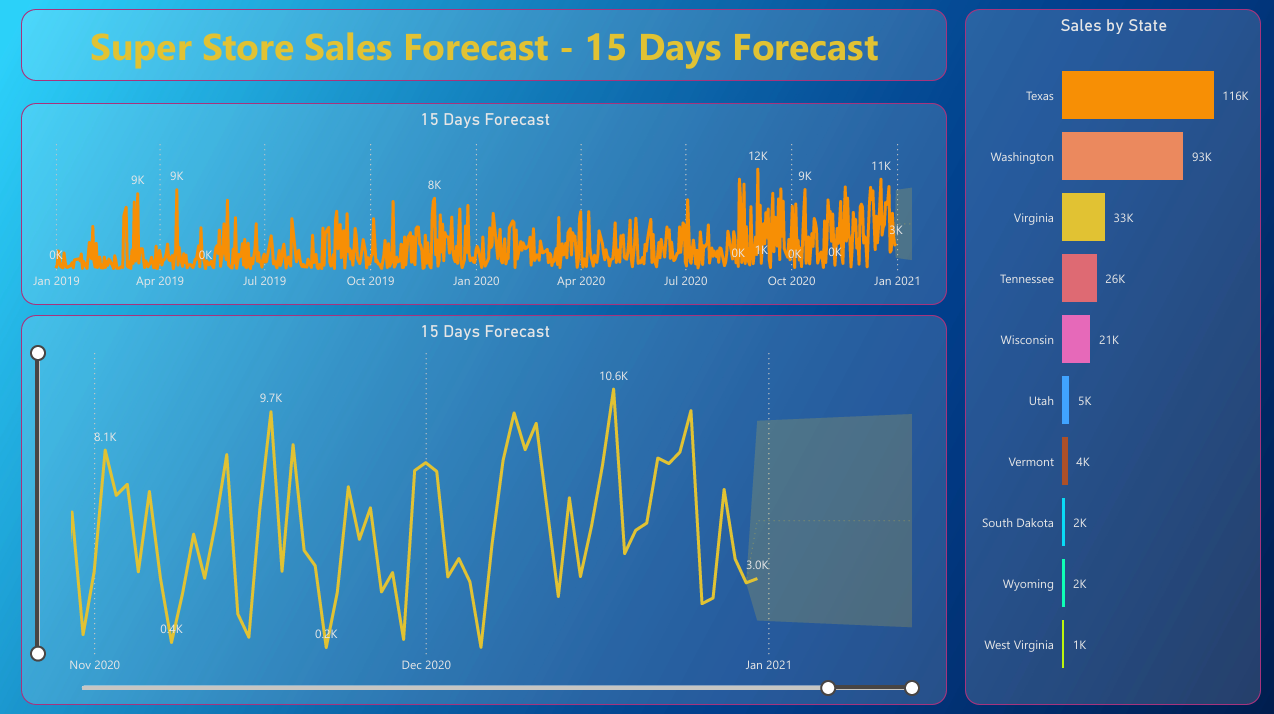

Layout of this report page (visuals, bound fields, positions):
{"tool":"powerbi","page":{"name":"Page 2","canvas":[1280,720],"ordinal":1},"visuals":[{"type":"lineChart","title":"15 Days Forecast","fields":{"Y":["Sum(SuperStore_Sales_Dataset.Sales)"],"Category":["SuperStore_Sales_Dataset.Order Date"]},"box":[22,316,926,390],"z":0},{"type":"lineChart","title":"15 Days Forecast","fields":{"Y":["Sum(SuperStore_Sales_Dataset.Sales)"],"Category":["SuperStore_Sales_Dataset.Order Date"]},"box":[22,104,926,202],"z":1000},{"type":"clusteredBarChart","title":"Sales by State","fields":{"Category":["SuperStore_Sales_Dataset.State"],"Y":["Sum(SuperStore_Sales_Dataset.Sales)"]},"box":[966,10,296,696],"z":2000},{"type":"textbox","box":[22,10,926,72],"z":3000}]}

Visuals, with their boxes in screenshot pixels (x1, y1, x2, y2), scaled from the page's 1280x720 canvas onto the 1274x714 screenshot:
"15 Days Forecast" lineChart: 22/313/944/700
"15 Days Forecast" lineChart: 22/103/944/303
"Sales by State" clusteredBarChart: 961/10/1256/700
textbox: 22/10/944/81
